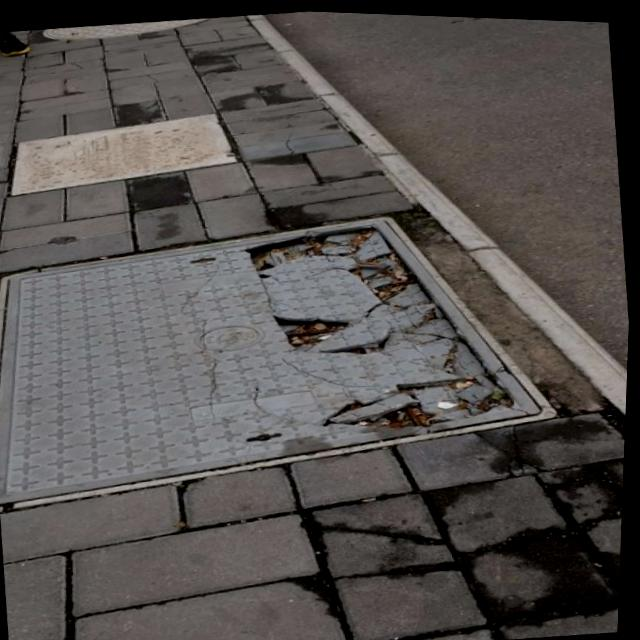manhole: (0, 187, 566, 500)
